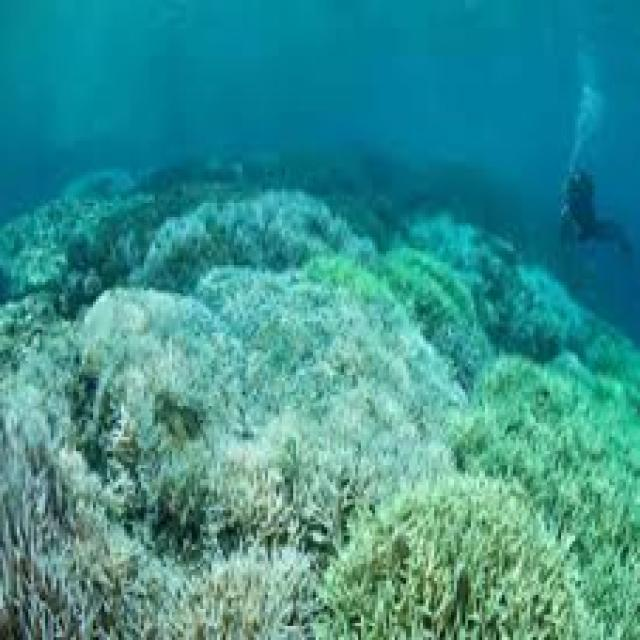Bleached: (204, 271, 449, 474), (1, 376, 105, 638), (89, 287, 239, 442), (142, 445, 338, 546), (96, 552, 304, 640), (154, 198, 370, 270), (489, 271, 603, 348)
Healthy: (461, 352, 640, 640), (321, 472, 586, 640), (312, 245, 472, 316)
